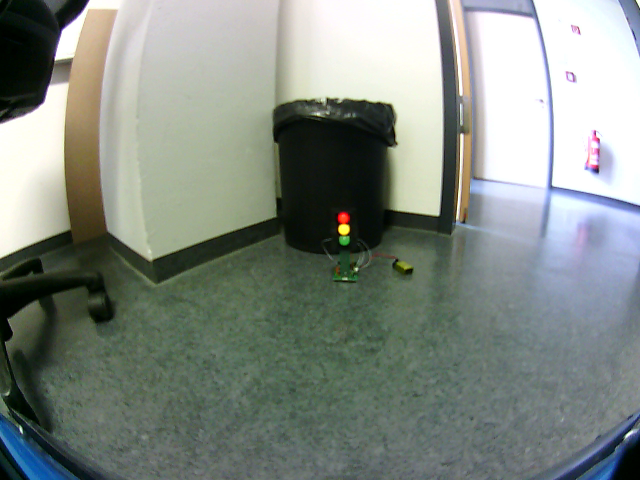red yellow trafficlight: (334, 212, 352, 246)
